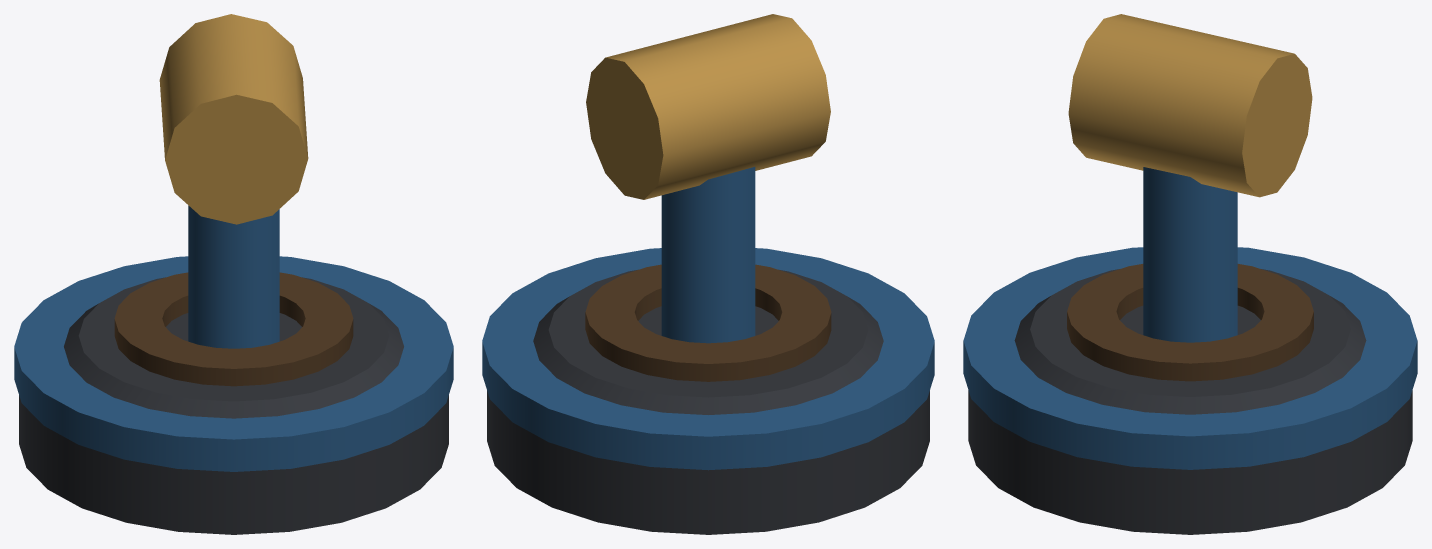
File: rm2_leg_fl_foot.obj
3 views of the same model, side by side, from view 1: azimuth 30°, elevation 25°; view 2: azimuth 150°, elevation 25°; view 3: azimuth 270°, elevation 25° (orthographic). The views are drawn at different scales.
Visible parts, largest first — view 1: rm2_leg_fl_foot; view 2: rm2_leg_fl_foot; view 3: rm2_leg_fl_foot.
Part boxes in pixels (x1=…): rm2_leg_fl_foot: x1=14, y1=14, x2=453, y2=534; rm2_leg_fl_foot: x1=482, y1=14, x2=934, y2=534; rm2_leg_fl_foot: x1=963, y1=14, x2=1417, y2=534.
Size of the model in its own units: 0.184 by 0.18 by 0.184.
